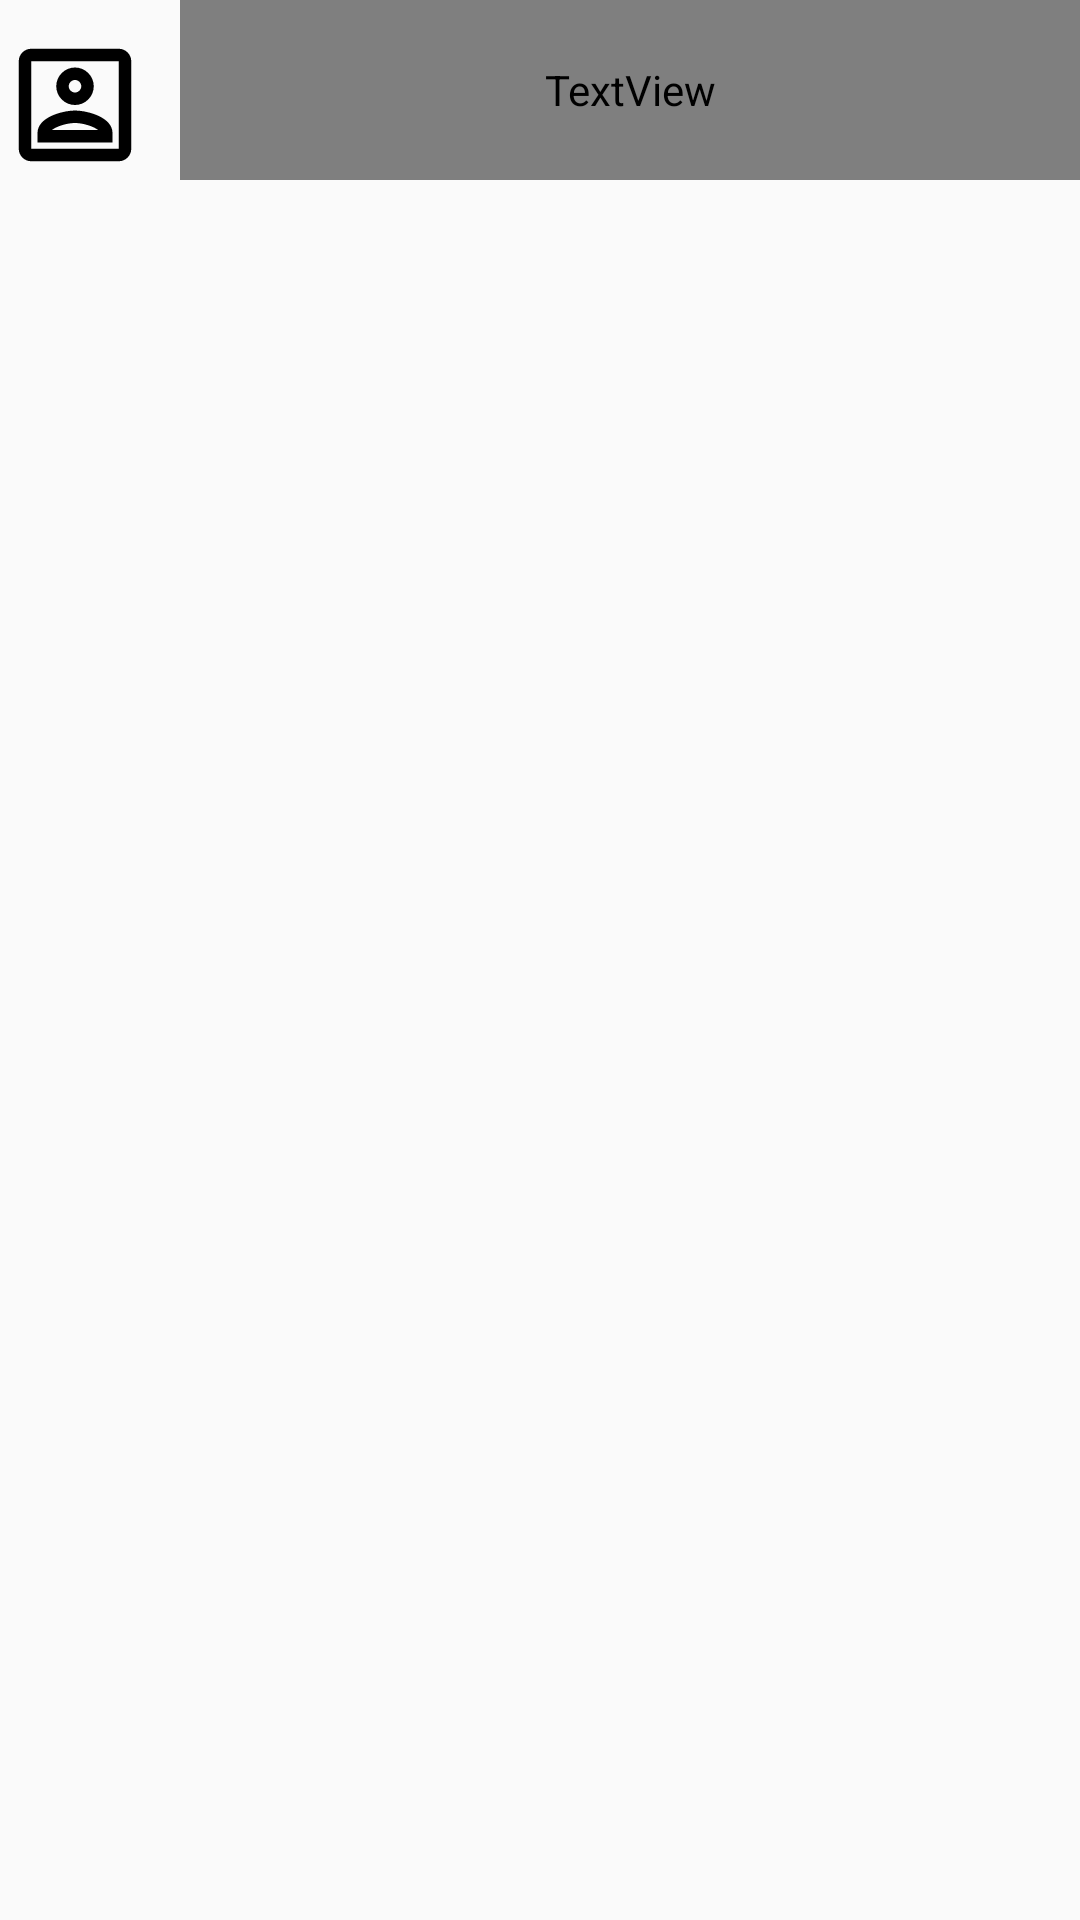

Icons on this 1080w x 1920h Android screen, each with the point to tap as point (x, y):
account box: point (75, 105)
